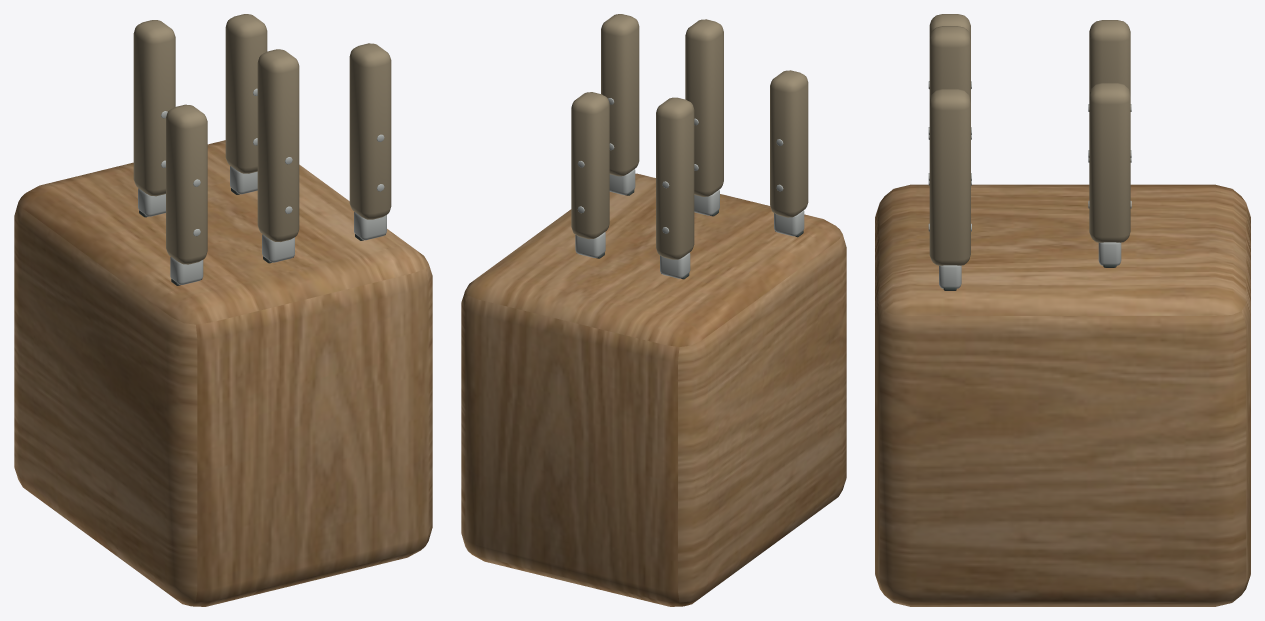
The model's file is knife-block.glb.
3 views of the same model, side by side, from view 1: azimuth 30°, elevation 25°; view 2: azimuth 150°, elevation 25°; view 3: azimuth 270°, elevation 25° (orthographic). The views are drawn at different scales.
Visible parts, largest first — view 1: catalog_surface_RealismUV, catalog_surface_UVMap; view 2: catalog_surface_RealismUV, catalog_surface_UVMap; view 3: catalog_surface_RealismUV, catalog_surface_UVMap.
Part boxes in pixels (<box>): catalog_surface_RealismUV: <box>14,88,432,606</box>; catalog_surface_UVMap: <box>133,14,391,285</box>; catalog_surface_RealismUV: <box>461,98,846,606</box>; catalog_surface_UVMap: <box>571,14,808,279</box>; catalog_surface_RealismUV: <box>875,81,1250,606</box>; catalog_surface_UVMap: <box>929,14,1130,290</box>.
Size of the model in its own units: 0.18 by 0.34 by 0.22.
Materials: 5 (1 with a texture image).
